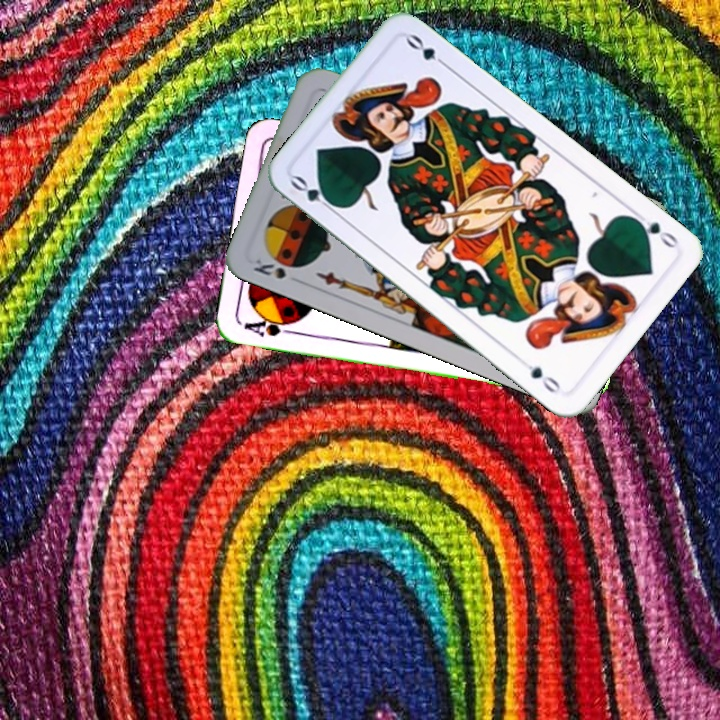GO: (286, 171, 341, 216), (628, 210, 682, 251)
SA: (239, 311, 299, 340)
SK: (249, 254, 289, 282)
